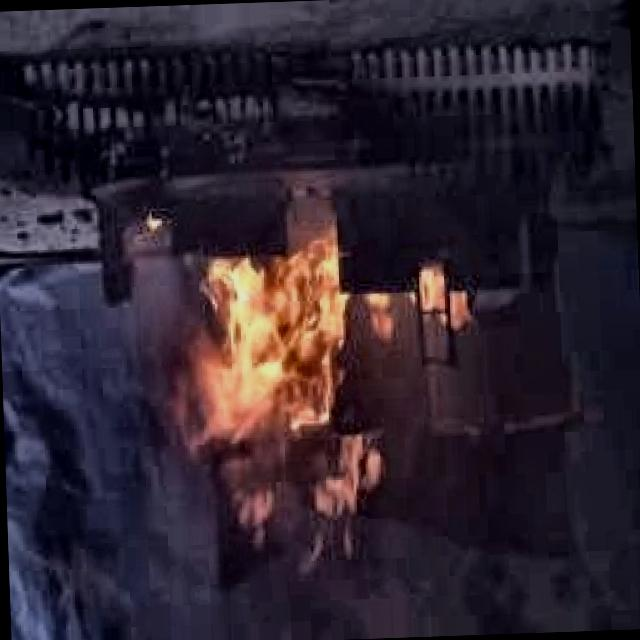fire: (158, 255, 393, 558)
